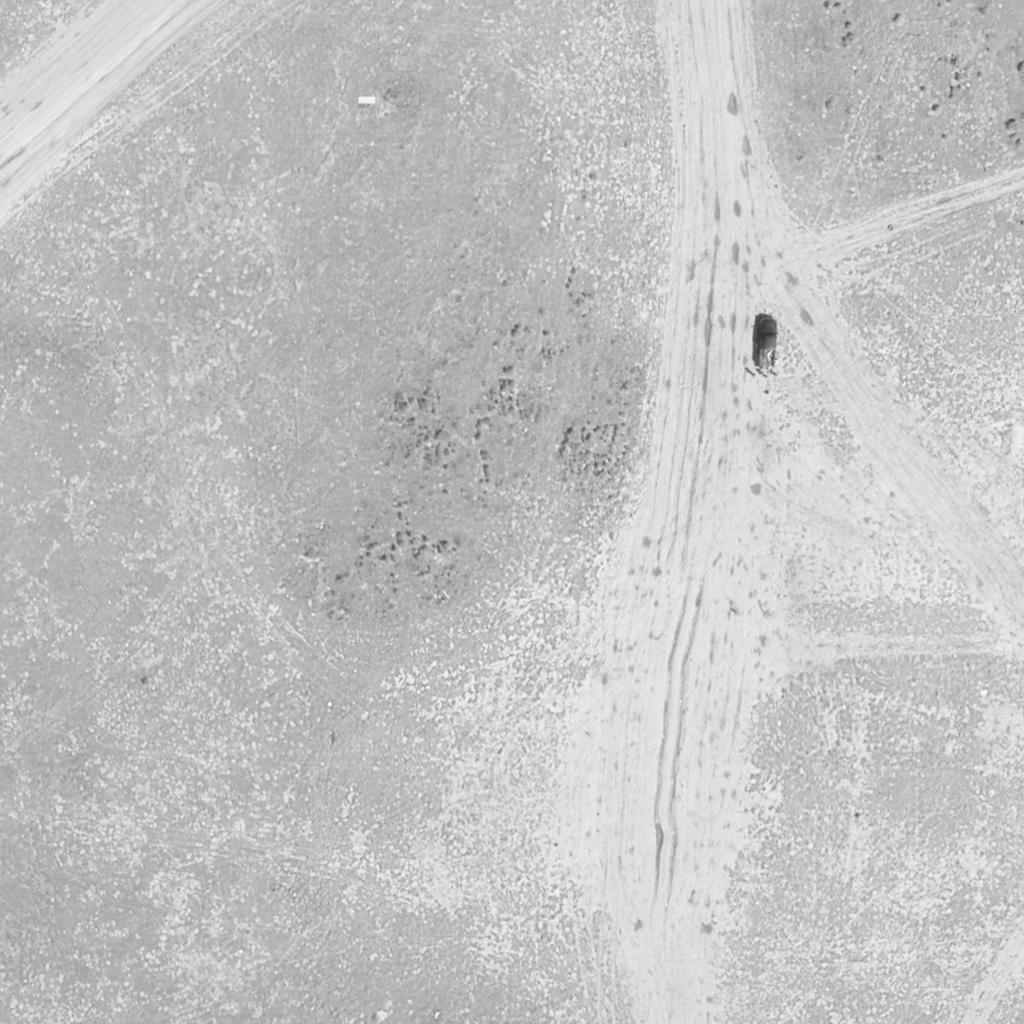vehicle: (757, 318, 777, 370)
